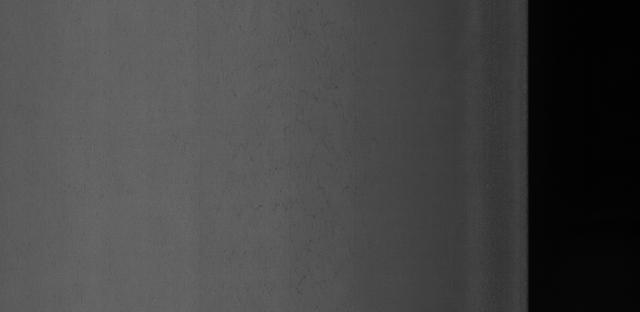silk_spot: (222, 72, 358, 244)
